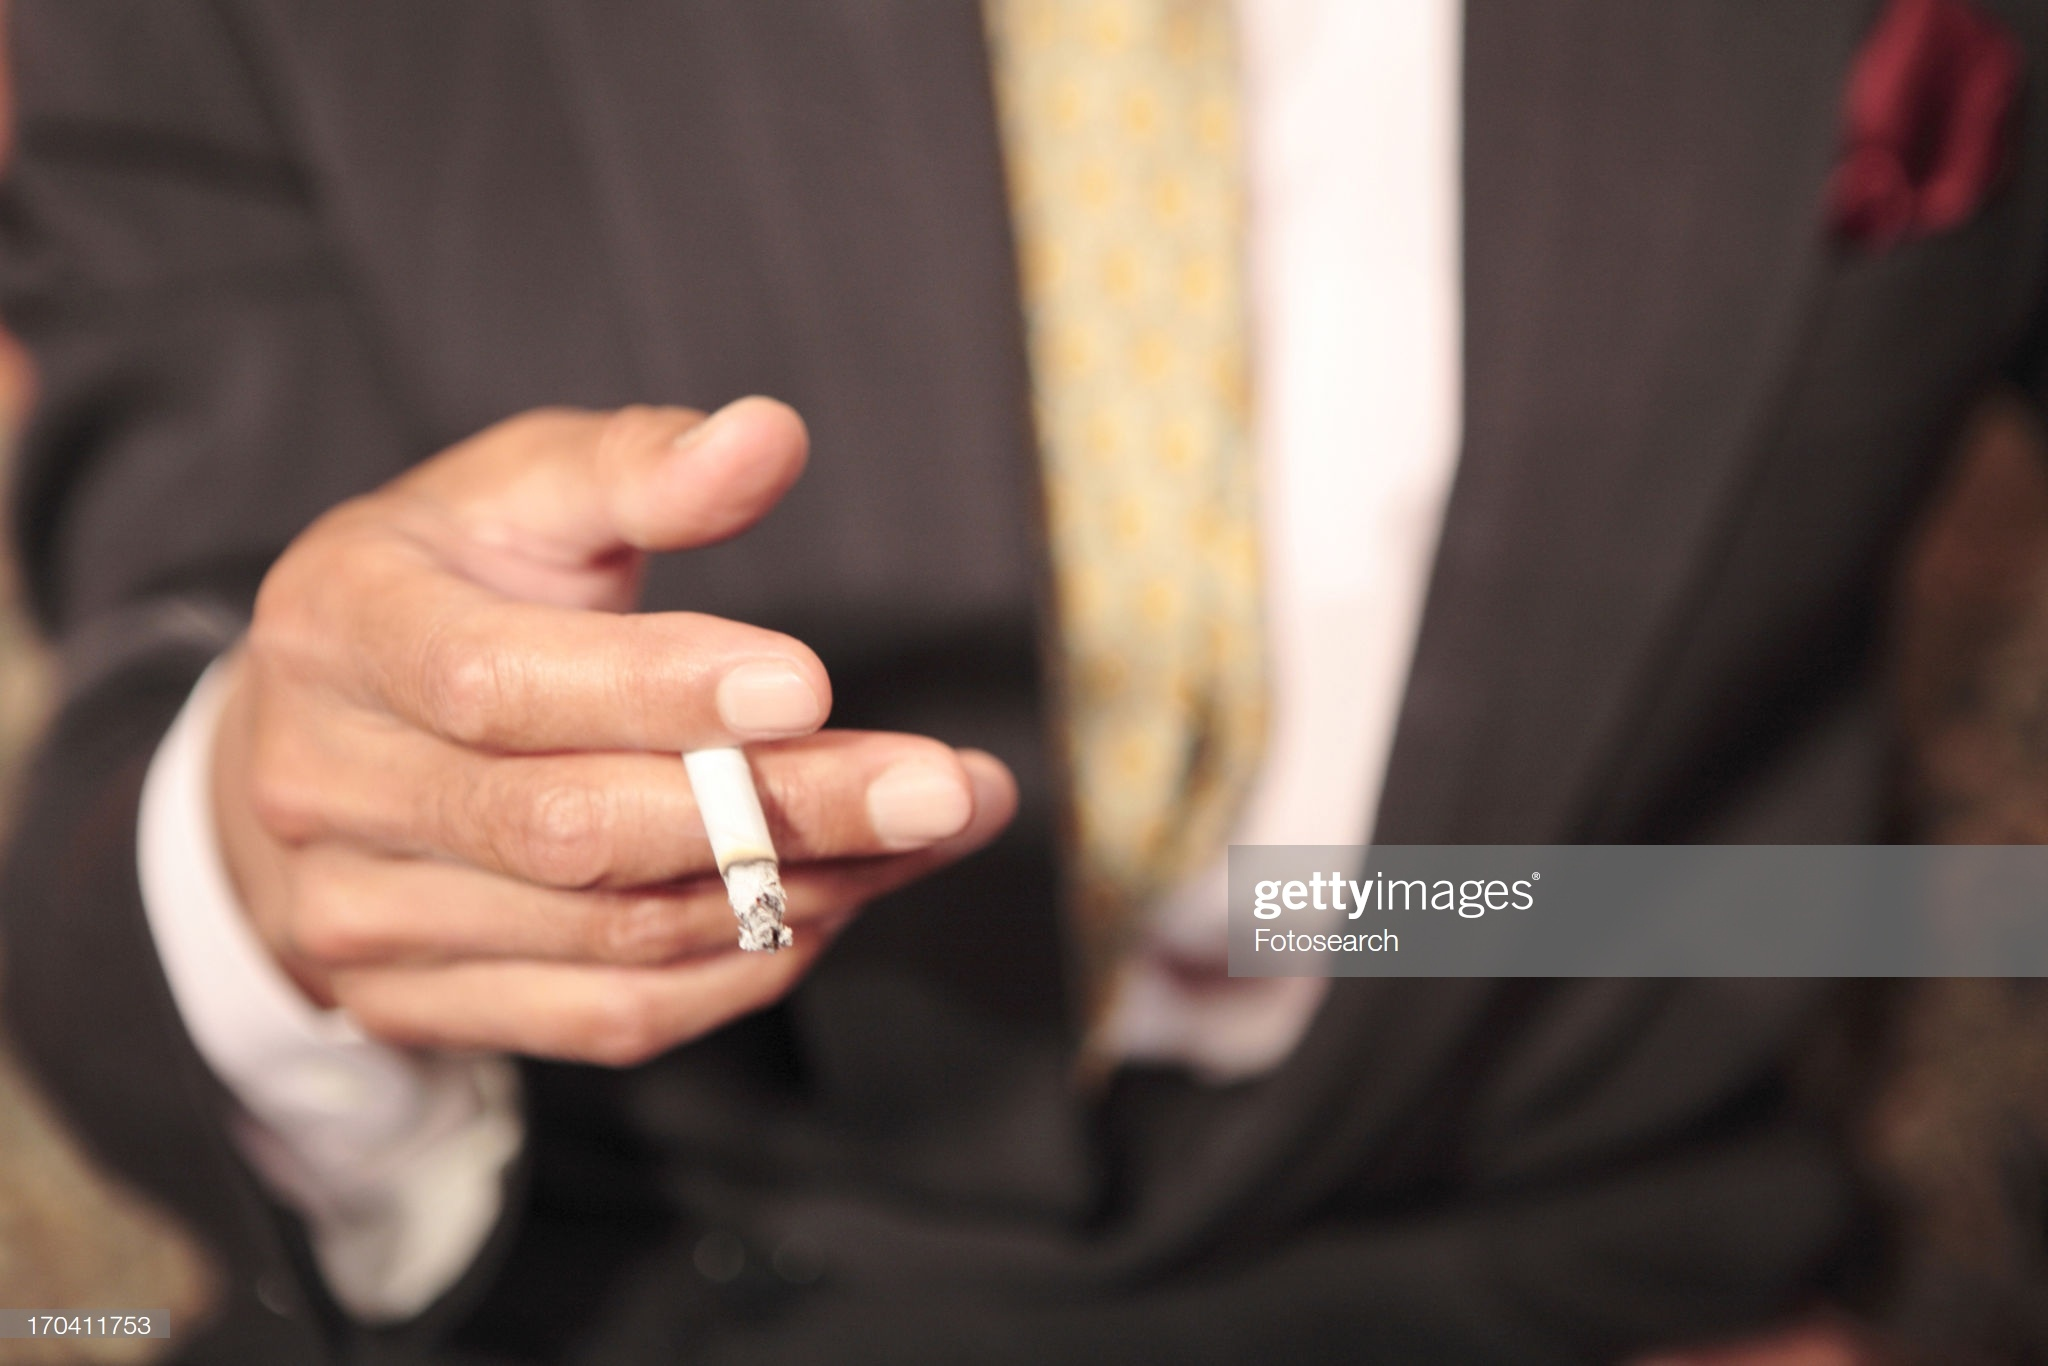sigaretta: (680, 715, 811, 951)
